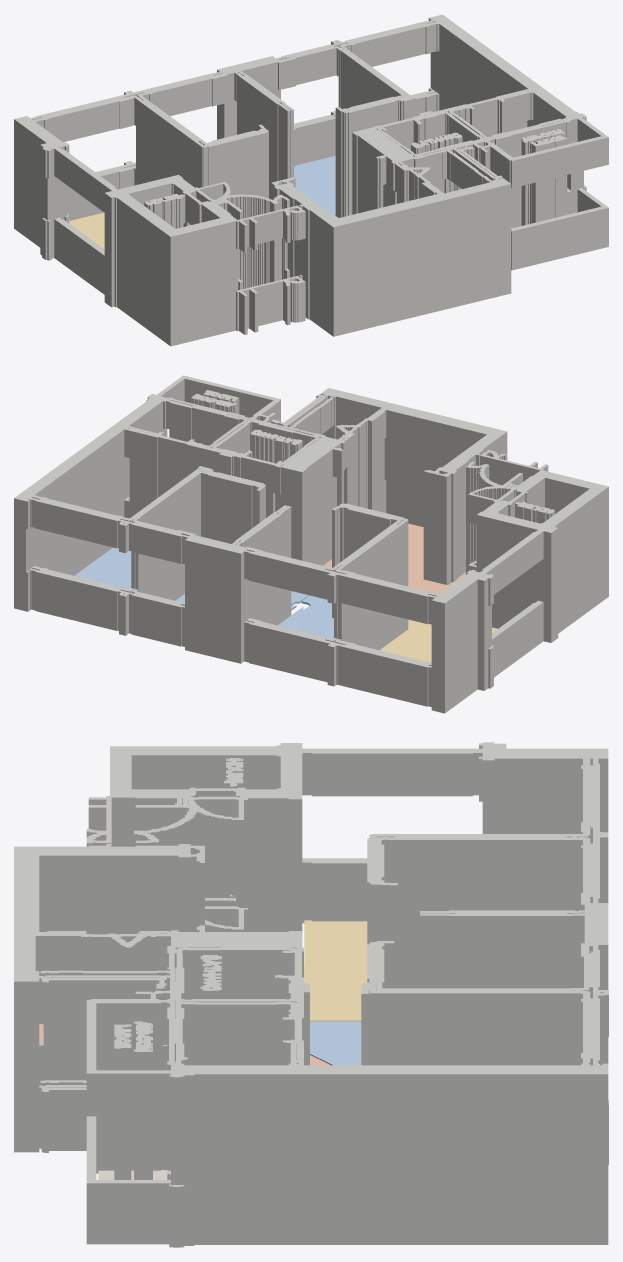
3 renders of one model, top to bottom at view 1: azimuth 30°, elevation 25°; view 2: azimuth 150°, elevation 25°; view 3: azimuth 270°, elevation 25°, orthographic. The views are drawn at different scales.
Visible parts, largest first — view 1: walls, room:bedroom:2, room:living:0; view 2: walls, room:bedroom:3, room:bedroom:1, room:kitchen:5, room:living:0; view 3: walls, room:living:0, room:bedroom:1.
Boxes of the visible parts, x1,y1,x2,y2 form: walls: [14, 14, 608, 346]; room:bedroom:2: [294, 156, 338, 218]; room:living:0: [69, 212, 104, 248]; walls: [14, 375, 608, 713]; room:bedroom:3: [75, 547, 131, 588]; room:bedroom:1: [278, 595, 333, 638]; room:kitchen:5: [324, 523, 465, 594]; room:living:0: [380, 619, 497, 662]; walls: [14, 742, 608, 1247]; room:living:0: [304, 920, 367, 1021]; room:bedroom:1: [310, 1021, 361, 1065].
Bounding box in the file's own units: 11.79 × 2.8 × 8.85.
